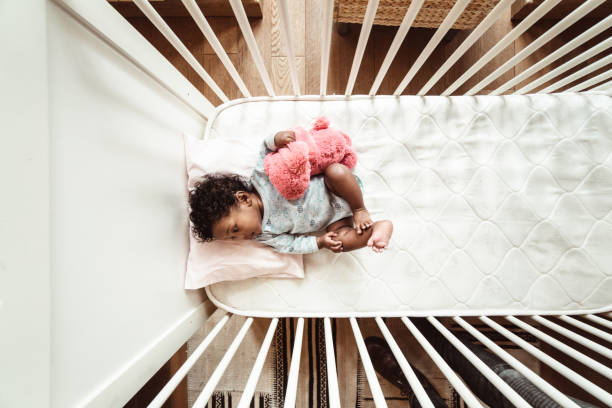baby: (189, 131, 392, 253)
crib: (0, 0, 611, 406)
